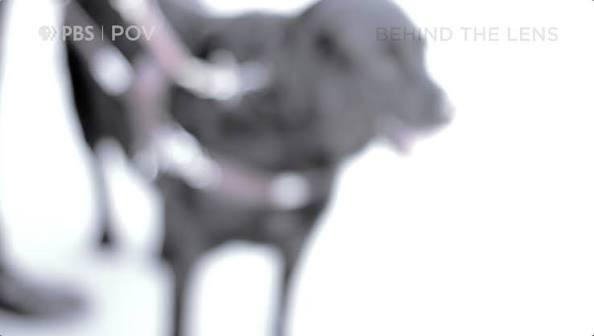adult_dog: (62, 1, 461, 336)
